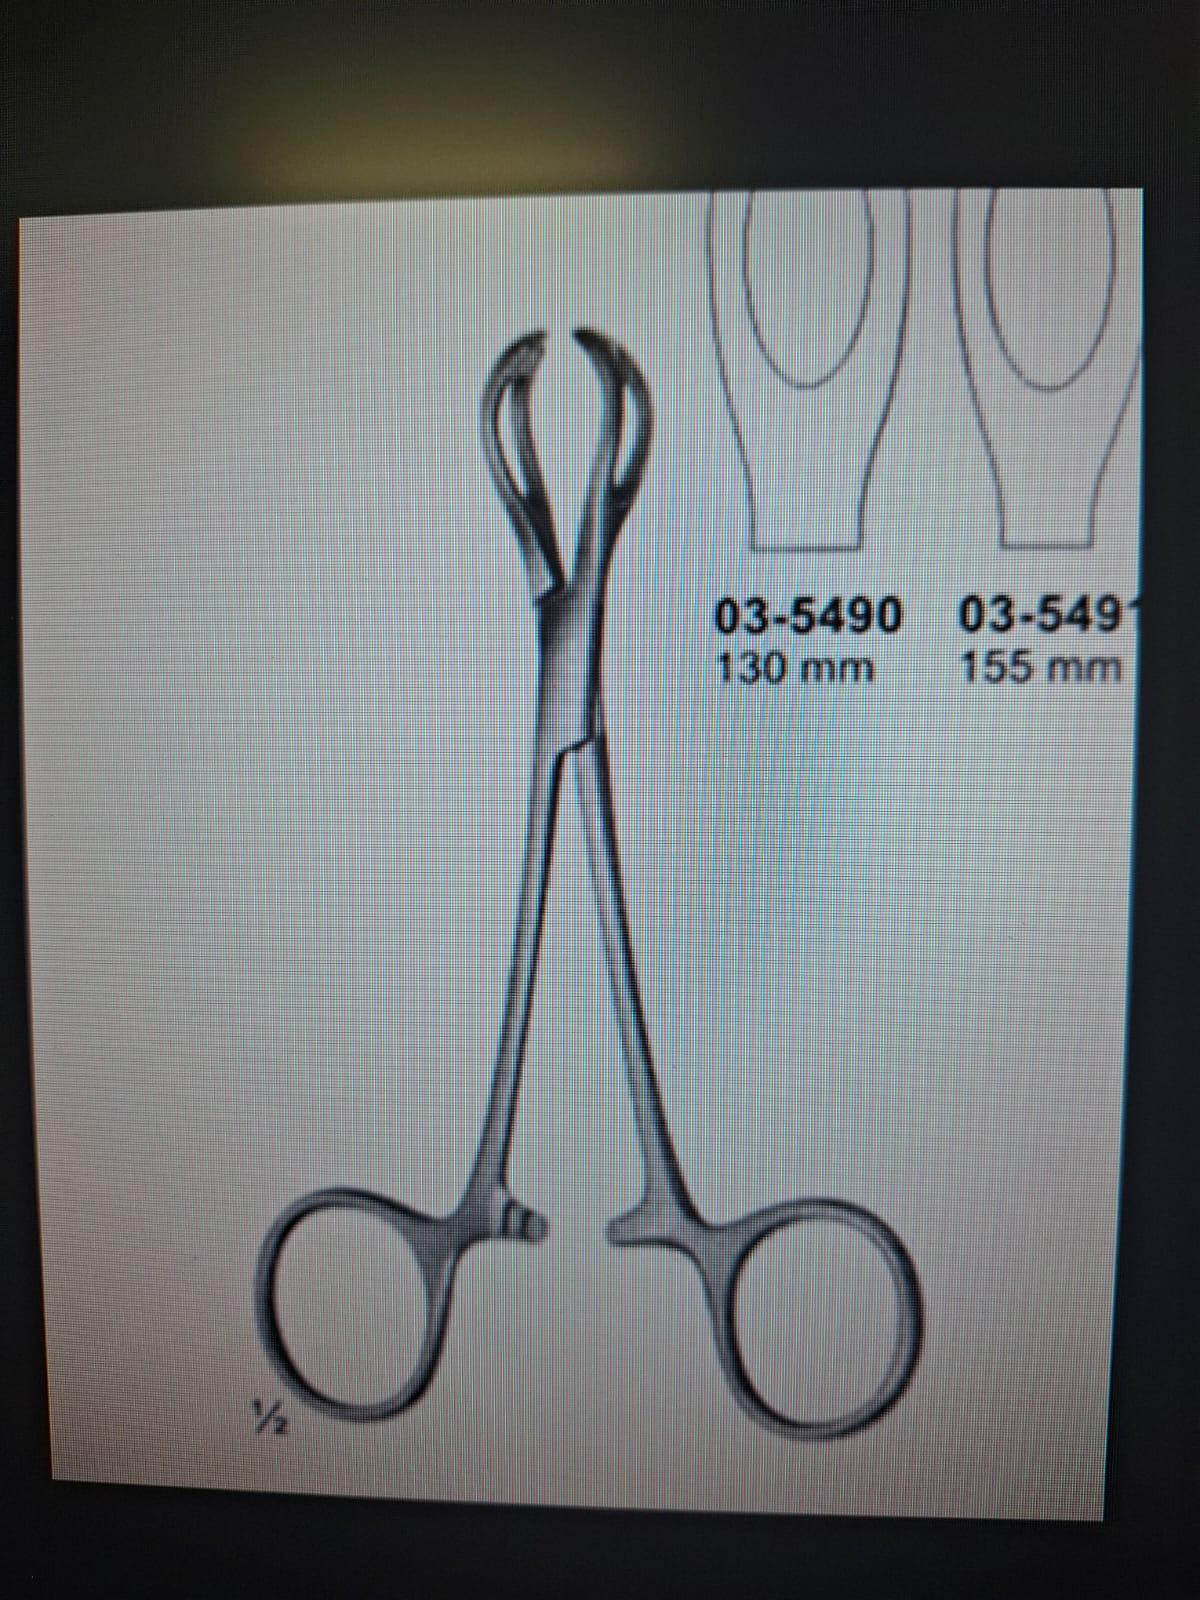Lane Tissue Forceps: (232, 317, 953, 1453)
